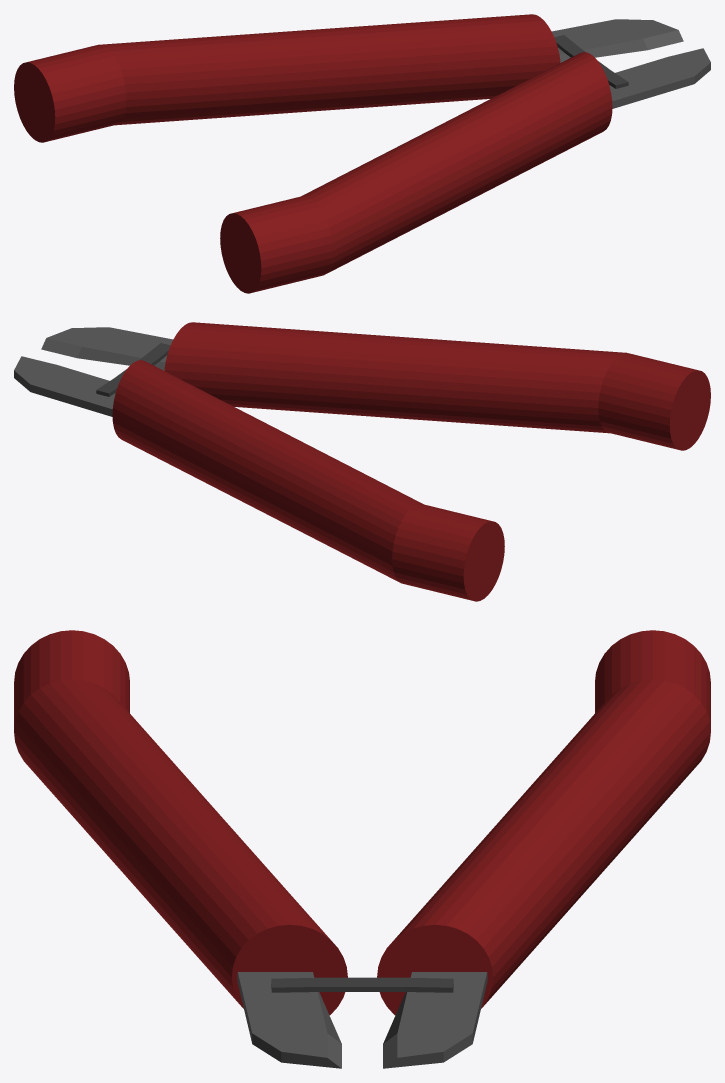
File: Tenazas.fbx
The picture shows the model from 3 angles, top to bottom: view 1: azimuth 30°, elevation 25°; view 2: azimuth 150°, elevation 25°; view 3: azimuth 270°, elevation 25°; orthographic projection. The views are drawn at different scales.
Visible parts, largest first — view 1: Cilindro; view 2: Cilindro; view 3: Cilindro.
Part boxes in pixels (<box>): Cilindro: <box>14,14,710,293</box>; Cilindro: <box>14,322,710,601</box>; Cilindro: <box>14,630,710,1068</box>.
Bounding box in the file's own units: 620 × 80 × 480.
